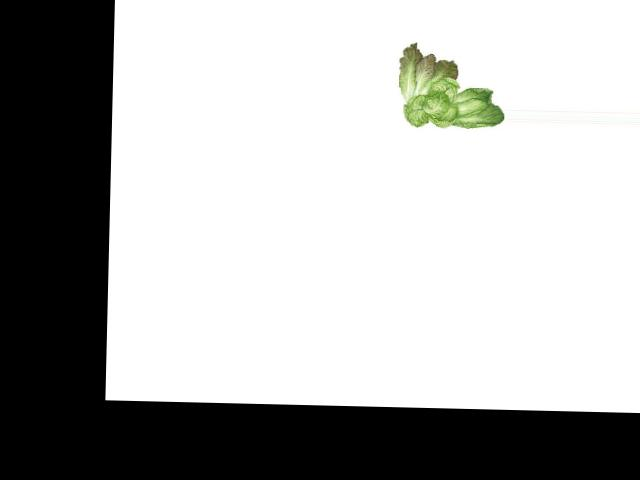lettuce: (395, 37, 506, 135)
